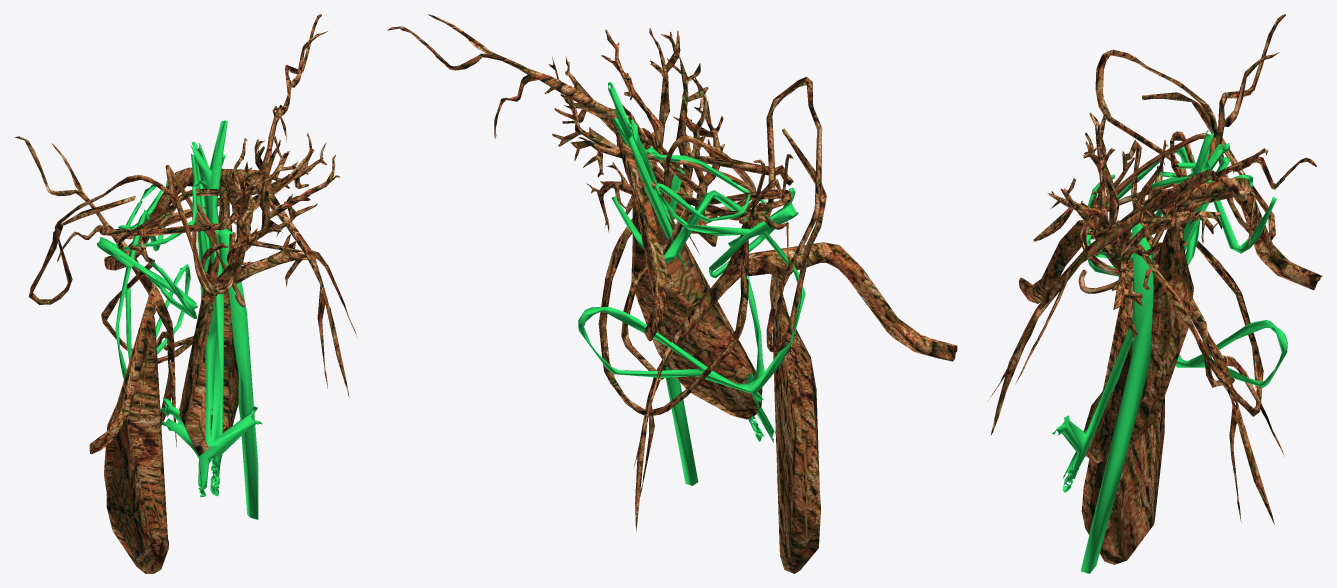
File: 2worldtree.two.vines.glb
3 renders of one model, left to right at view 1: azimuth 30°, elevation 25°; view 2: azimuth 150°, elevation 25°; view 3: azimuth 270°, elevation 25°, orthographic. The views are drawn at different scales.
Parts seen in each view (by area): view 1: coral.001; view 2: coral.001; view 3: coral.001.
Part boxes in pixels (x1,y1,x2,y2): coral.001: (14, 14, 357, 573); coral.001: (387, 14, 957, 573); coral.001: (987, 14, 1322, 573).
Size of the model in its own units: 0.9128 by 1.1 by 0.6061.
3 materials, 2 textured.
